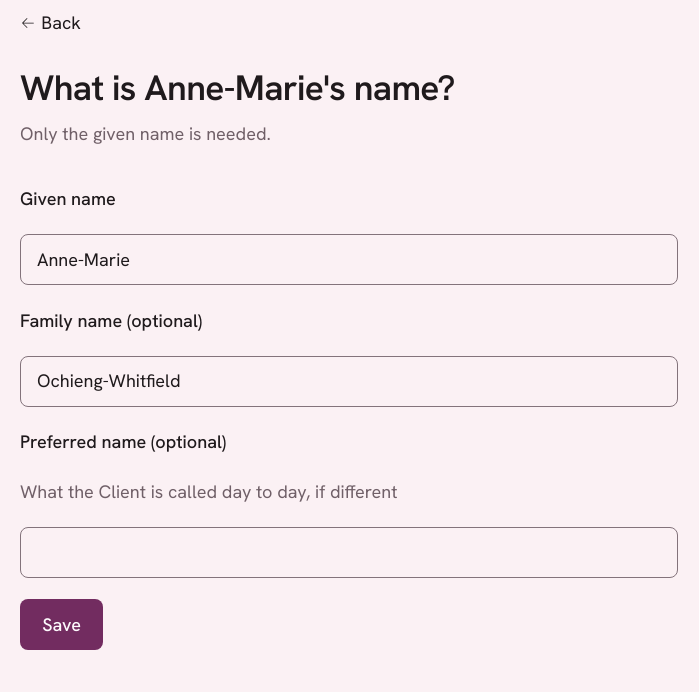
Test case: a question a Change on her record opened › shows a refused save on the question
This screenshot has width=699, height=692.
Click the button "Save" at [62, 625], box [20,599,103,650]
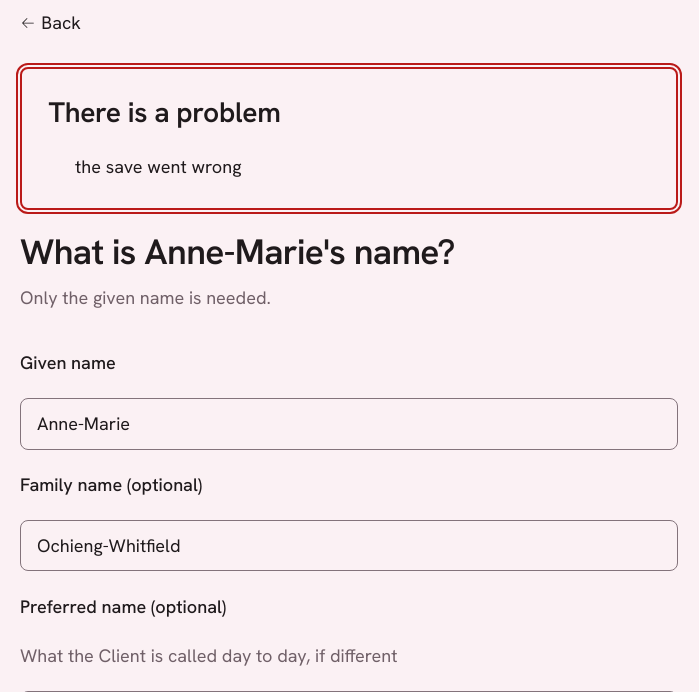
Expected: the heading "There is a problem" is shown, [48,94,281,131]
